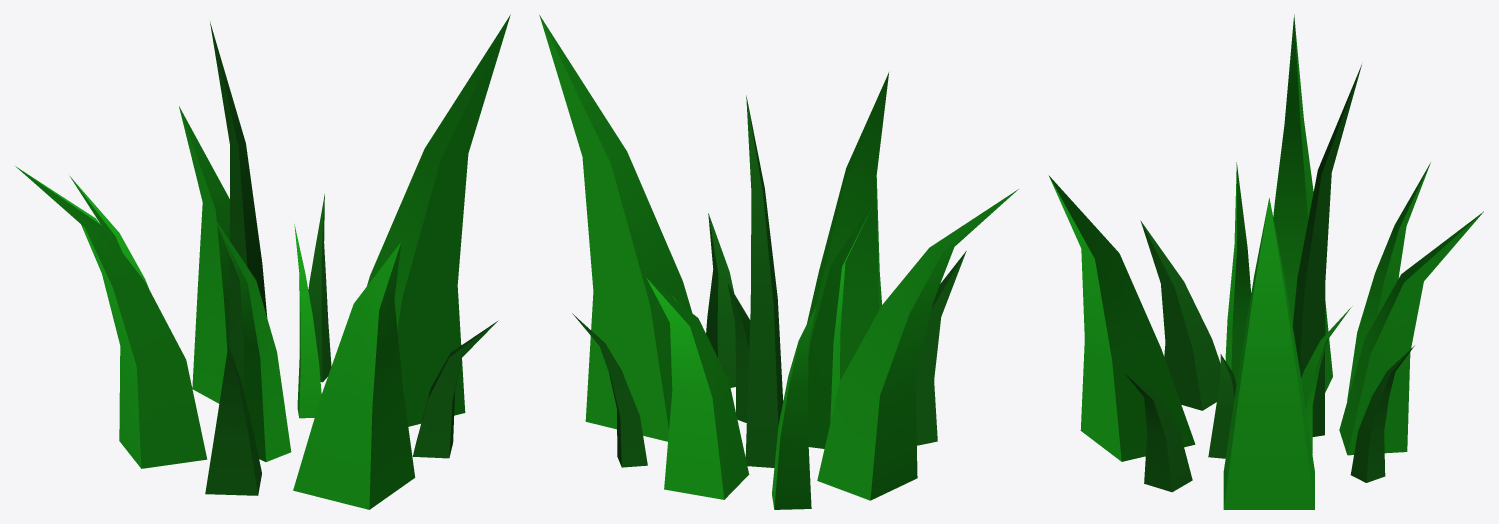
Rendered from Grass#1.FBX.
The picture shows the model from 3 angles, left to right: view 1: azimuth 30°, elevation 25°; view 2: azimuth 150°, elevation 25°; view 3: azimuth 270°, elevation 25°; orthographic projection. The views are drawn at different scales.
Parts seen in each view (by area): view 1: Pyramid012; view 2: Pyramid012; view 3: Pyramid012.
Part boxes in pixels (box(x1,y1,x2,y2)): Pyramid012: box(15, 14, 510, 509); Pyramid012: box(539, 15, 1018, 509); Pyramid012: box(1048, 14, 1483, 509).
Bounding box in the file's own units: 31.09 × 23.59 × 25.65.
